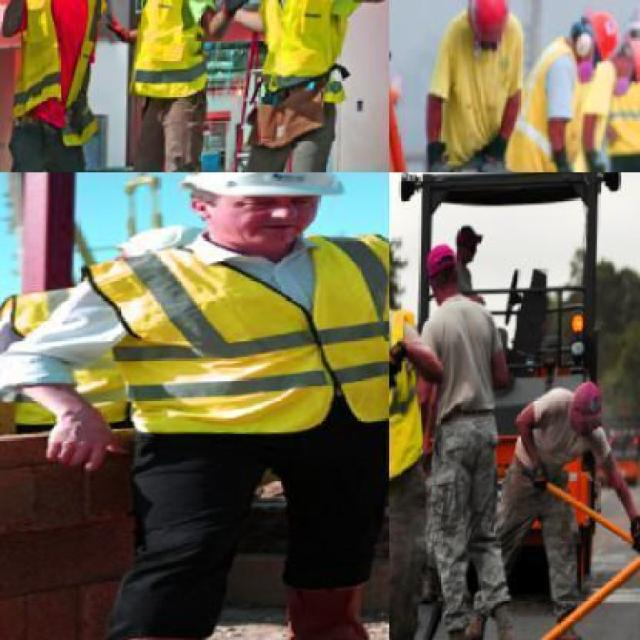Vest: (72, 232, 388, 443), (8, 0, 108, 151), (508, 20, 590, 171), (252, 0, 346, 106), (129, 0, 217, 109), (389, 309, 440, 491), (603, 54, 639, 163)
